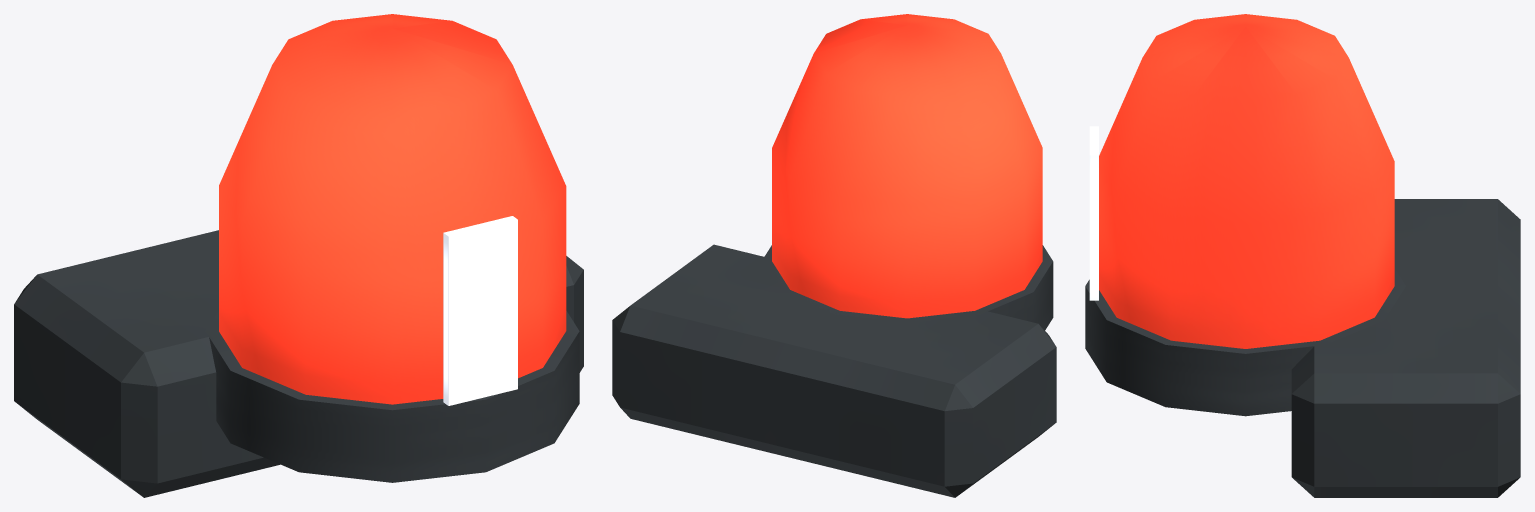
File: light_ss_emergency.fbx
3 renders of one model, left to right at view 1: azimuth 30°, elevation 25°; view 2: azimuth 150°, elevation 25°; view 3: azimuth 270°, elevation 25°, orthographic. The views are drawn at different scales.
Visible parts, largest first — view 1: light_ss_emergency_lens, light_ss_emergency; view 2: light_ss_emergency, light_ss_emergency_lens; view 3: light_ss_emergency_lens, light_ss_emergency.
Part boxes in pixels (left/top/right/bottom): light_ss_emergency_lens: left=219, top=14, right=566, bottom=405; light_ss_emergency: left=14, top=230, right=583, bottom=497; light_ss_emergency: left=612, top=244, right=1056, bottom=497; light_ss_emergency_lens: left=772, top=14, right=1042, bottom=318; light_ss_emergency_lens: left=1089, top=14, right=1394, bottom=348; light_ss_emergency: left=1085, top=199, right=1520, bottom=497.
Size of the model in its own units: 0.2 by 0.185 by 0.19.
1 material, 1 textured.
